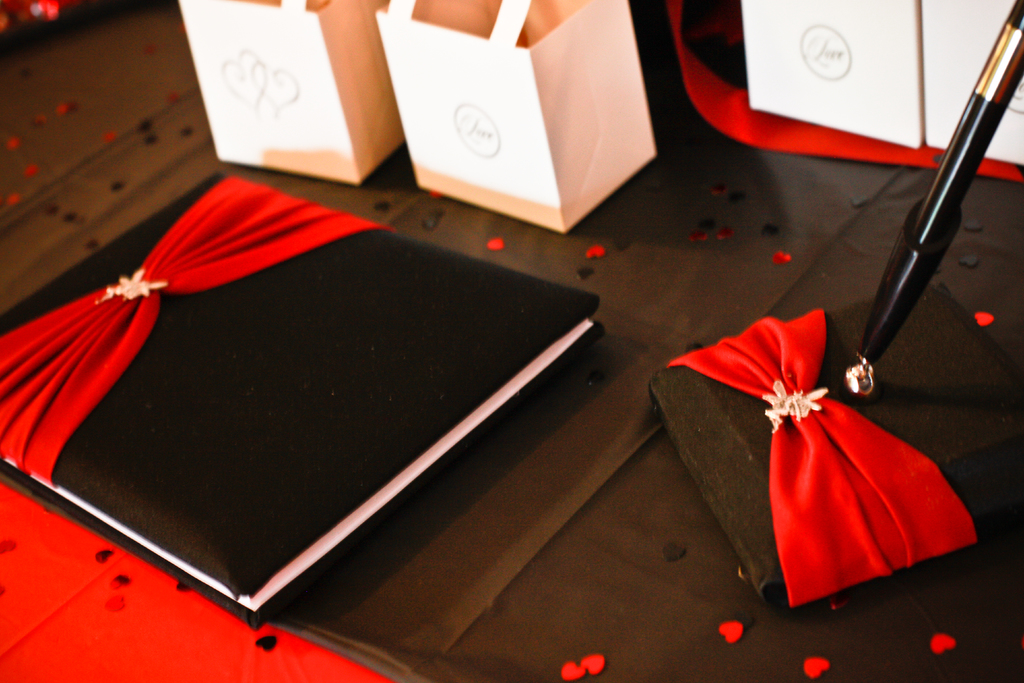Pen: (838, 0, 1022, 396)
